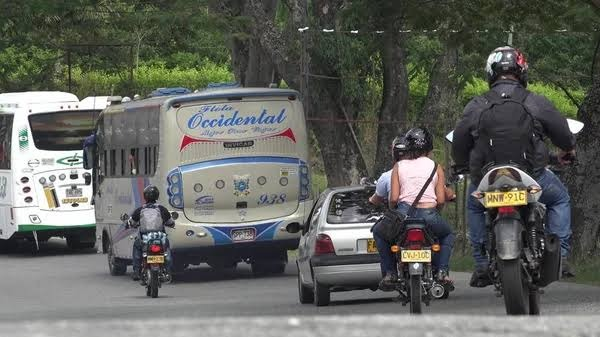car: (90, 91, 313, 274), (2, 96, 104, 252), (466, 147, 564, 308), (134, 192, 303, 283), (1, 96, 99, 250), (359, 146, 453, 304), (288, 183, 406, 306), (289, 183, 402, 302), (376, 196, 452, 309), (479, 204, 557, 311), (120, 214, 172, 290), (135, 239, 171, 298)
